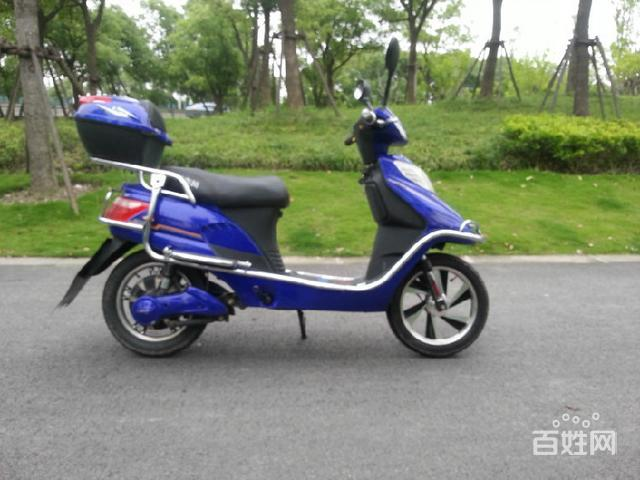电动车: (43, 35, 508, 376)
